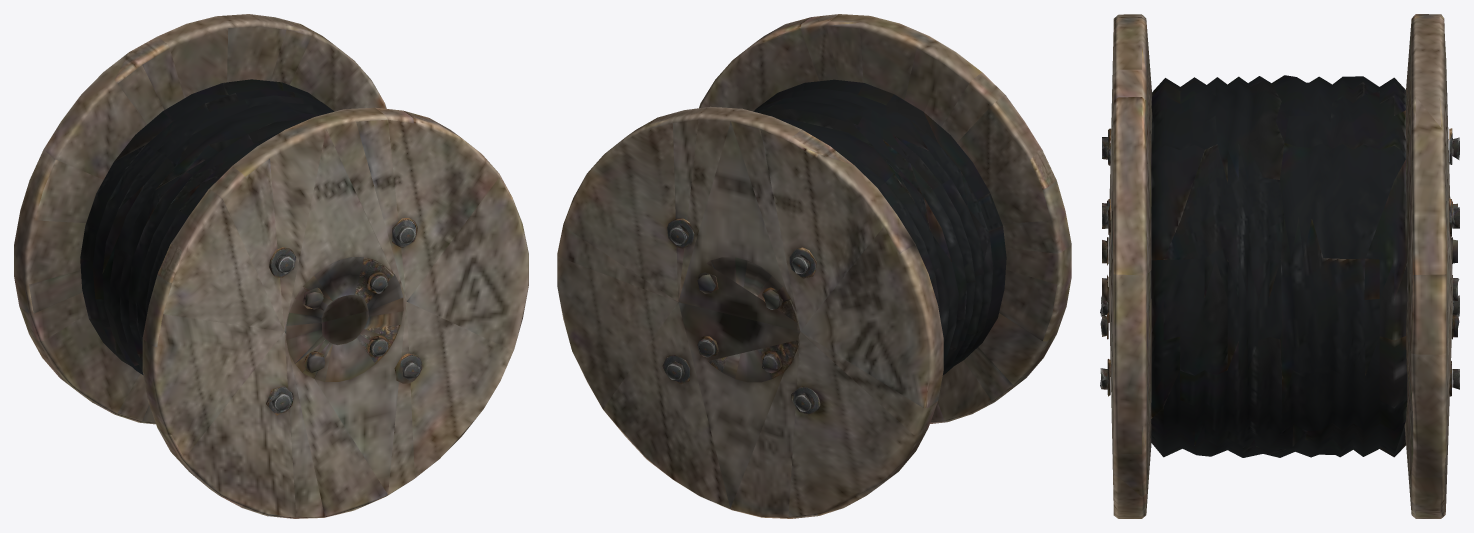
File: salvage-cable_spool_prop.glb
3 views of the same model, side by side, from view 1: azimuth 30°, elevation 25°; view 2: azimuth 150°, elevation 25°; view 3: azimuth 270°, elevation 25° (orthographic). The views are drawn at different scales.
Parts seen in each view (by area): view 1: Meshy_AI_cable_spool_prop_3d_20261028_texture; view 2: Meshy_AI_cable_spool_prop_3d_20261028_texture; view 3: Meshy_AI_cable_spool_prop_3d_20261028_texture.
Boxes of the visible parts, left/top/right/bottom form: Meshy_AI_cable_spool_prop_3d_20261028_texture: left=14, top=14, right=528, bottom=518; Meshy_AI_cable_spool_prop_3d_20261028_texture: left=557, top=14, right=1071, bottom=518; Meshy_AI_cable_spool_prop_3d_20261028_texture: left=1100, top=14, right=1459, bottom=518.
Bounding box in the file's own units: 0.999 × 1 × 0.7096.
1 material, 1 textured.
